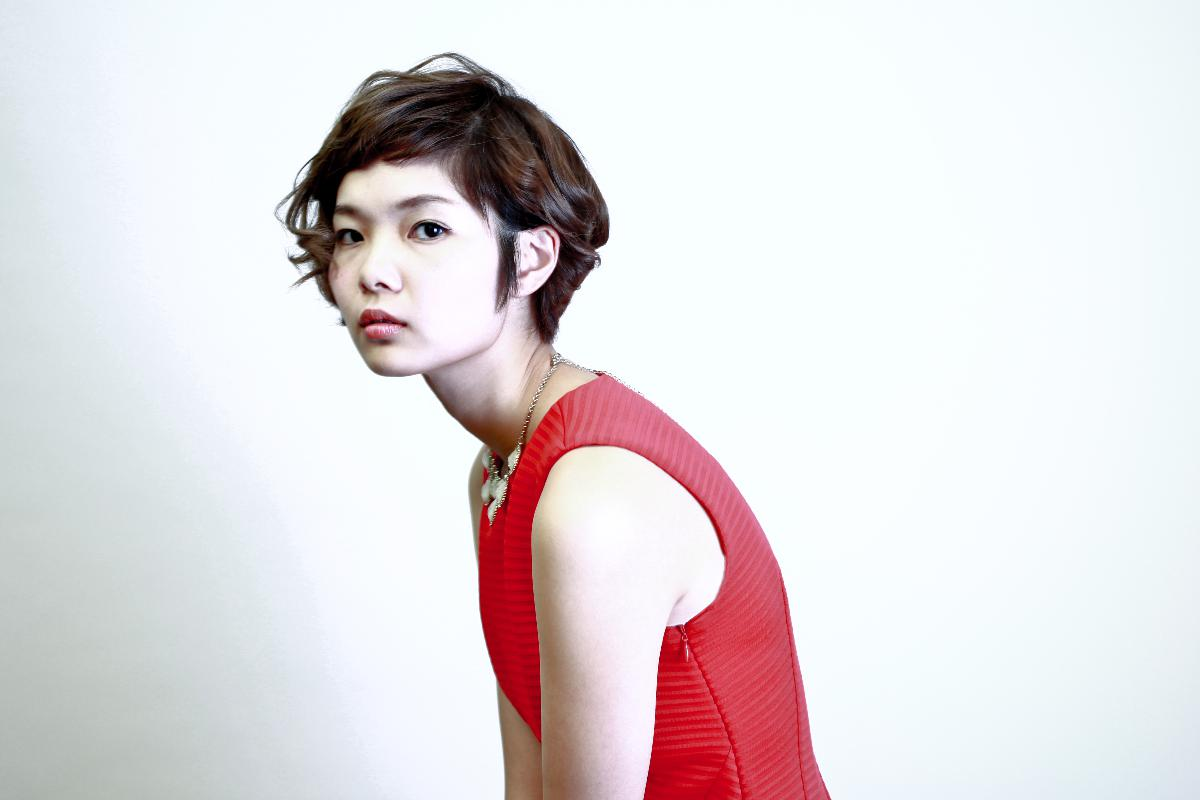Person: (273, 42, 833, 800)
